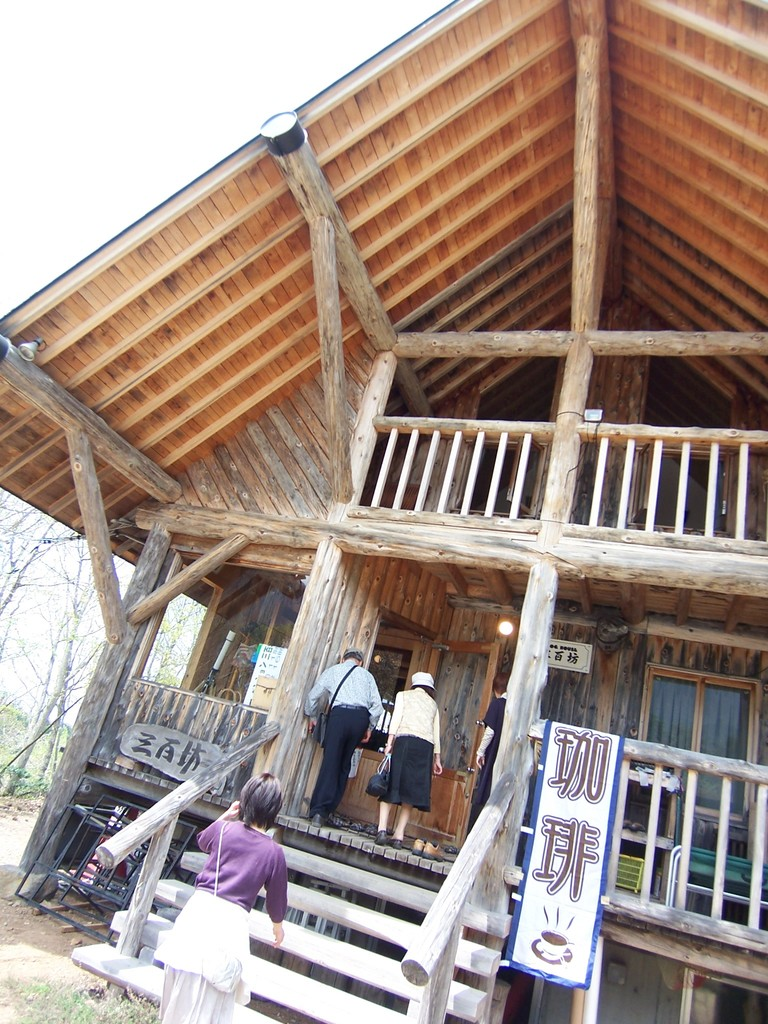Human_hand: (473, 753, 490, 772), (271, 925, 285, 948), (308, 716, 321, 737), (228, 800, 242, 817), (432, 754, 442, 773), (383, 740, 394, 756)
